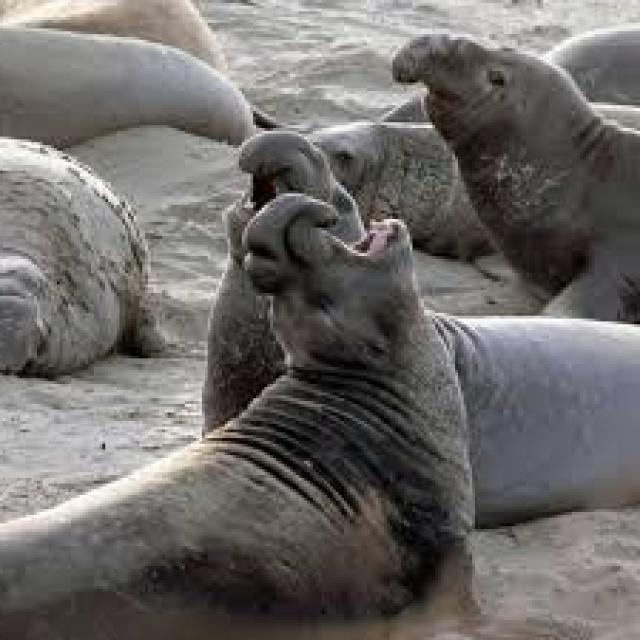seal: (3, 191, 475, 614), (395, 34, 640, 321), (205, 131, 367, 430), (438, 313, 640, 523)
